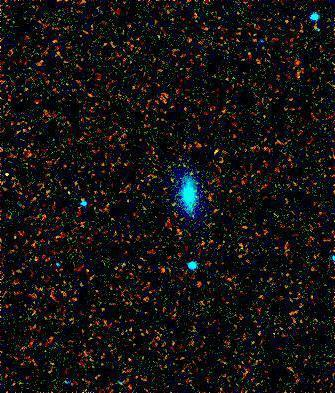star: (284, 55, 314, 85)
